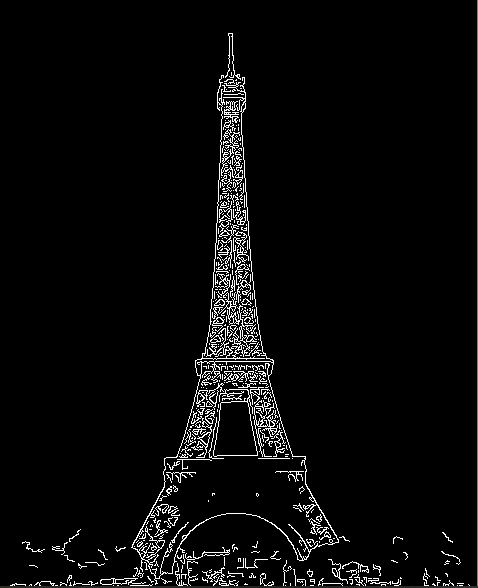eiffel tower: (120, 20, 353, 562)
